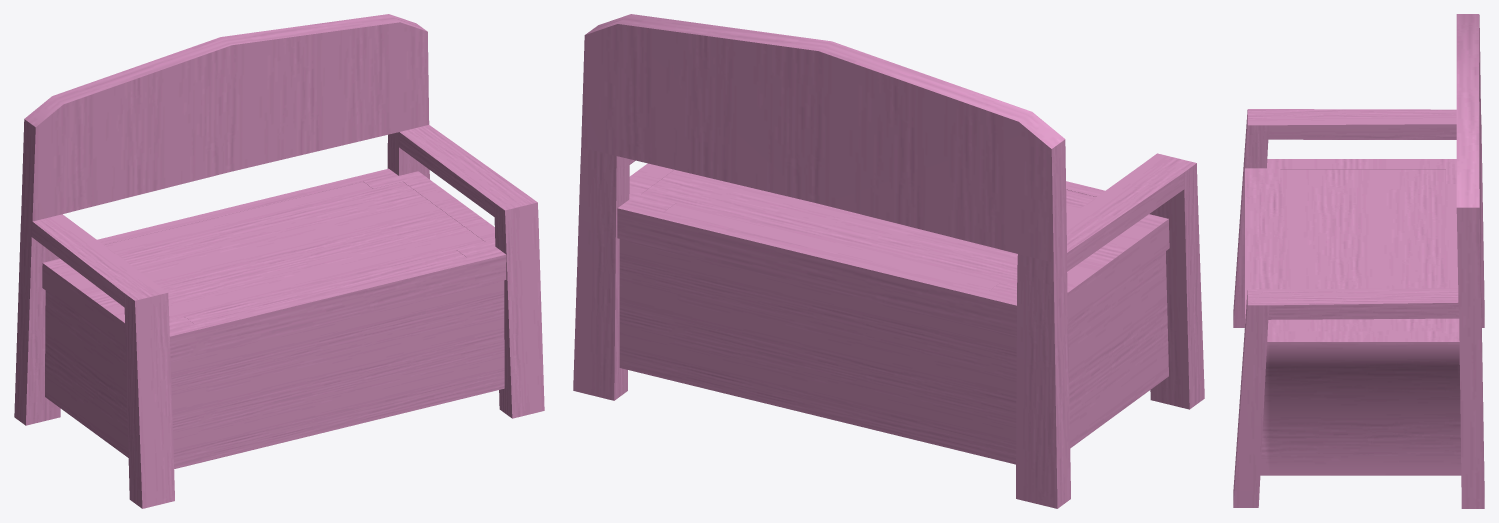
File: Deacon_Bench_J.FBX
3 renders of one model, left to right at view 1: azimuth 30°, elevation 25°; view 2: azimuth 150°, elevation 25°; view 3: azimuth 270°, elevation 25°, orthographic. The views are drawn at different scales.
Visible parts, largest first — view 1: Deacon_Bench, Lid; view 2: Deacon_Bench, Lid; view 3: Deacon_Bench, Lid.
Part boxes in pixels (x1=…): Deacon_Bench: x1=14, y1=14, x2=544, y2=508; Lid: x1=104, y1=182, x2=485, y2=323; Deacon_Bench: x1=573, y1=14, x2=1204, y2=508; Lid: x1=641, y1=169, x2=1096, y2=290; Deacon_Bench: x1=1233, y1=14, x2=1484, y2=508; Lid: x1=1259, y1=169, x2=1458, y2=331.
Bounding box in the file's own units: 248 × 194 × 133.
